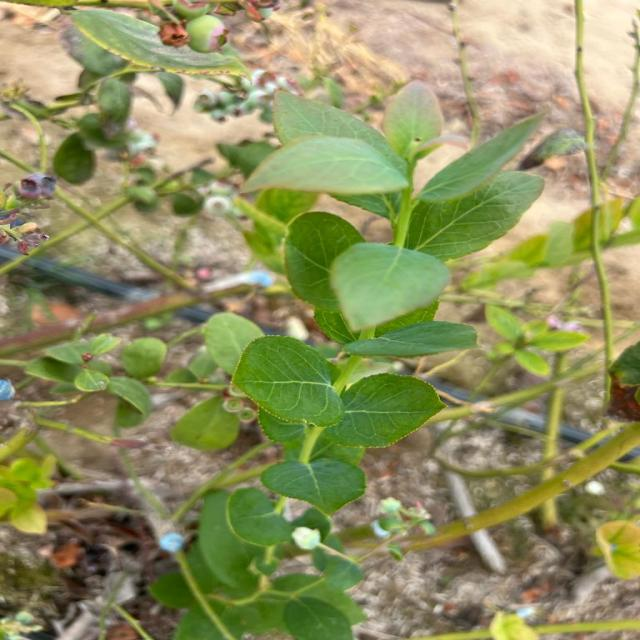Hojas sanas sin oidiosis: (397, 170, 549, 260), (408, 110, 548, 202), (274, 209, 388, 315), (323, 240, 455, 330), (228, 334, 346, 428), (321, 372, 443, 447), (258, 456, 372, 513), (223, 485, 299, 546)
